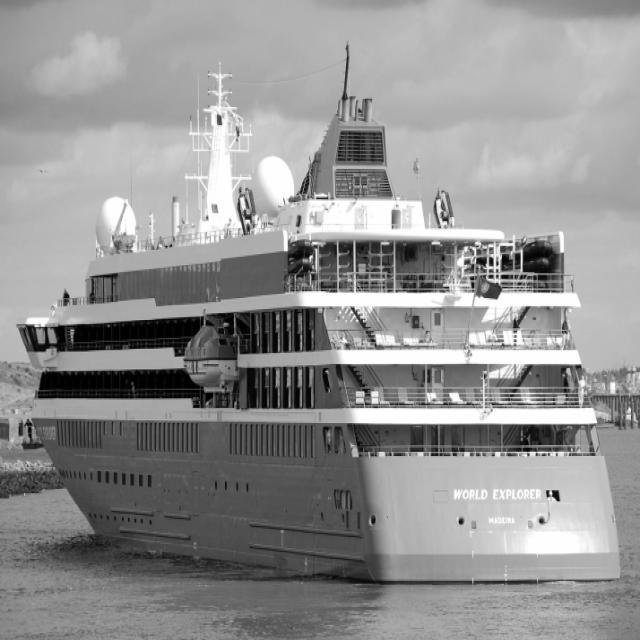cruises: (16, 33, 639, 596)
